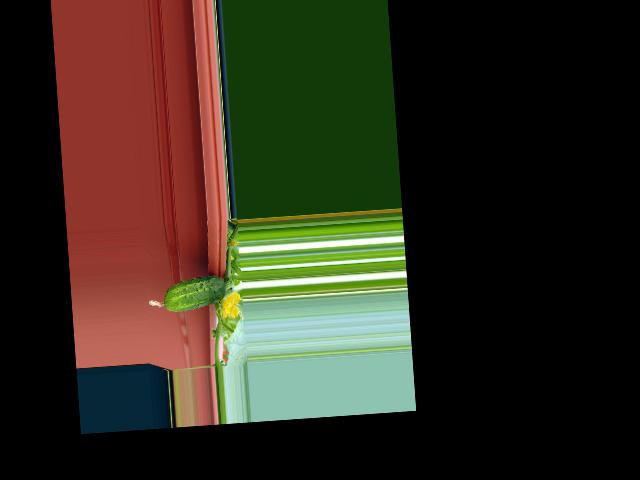cucumber: (146, 275, 227, 314)
